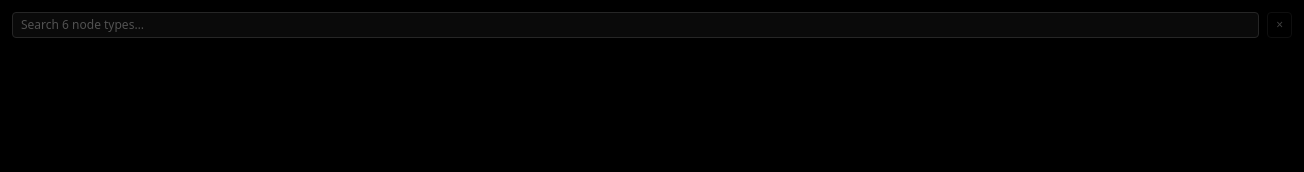
Test case: SearchPanel › clearing the search empties the results
Type "app" into the field named "Search graph nodes" at (636, 25), box [12,12,1259,38]
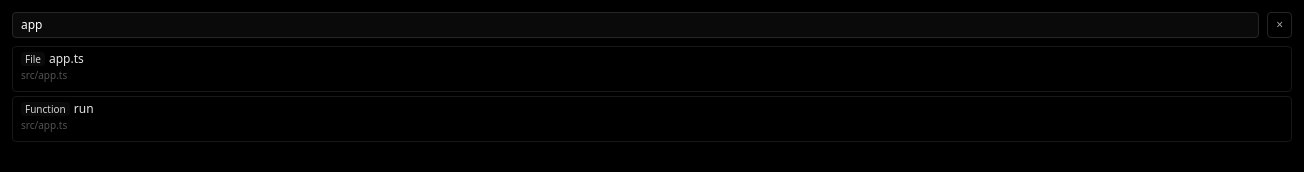
expect the number of list items is 2: met, box [12,46,1292,92]; [12,96,1292,142]
Click the button named "Clear search" at (1280, 25), box [1267,12,1292,38]
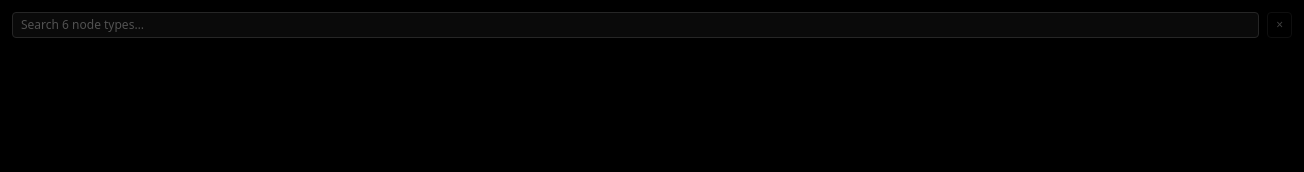
expect the field named "Search graph nodes" is empty: met, box [12,12,1259,38]
expect no list items are shown: met
